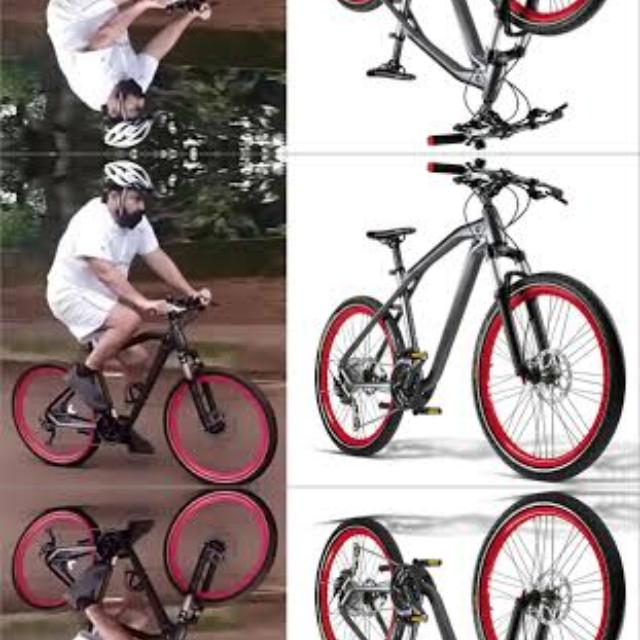obstacle: (301, 154, 634, 482), (300, 0, 633, 151), (16, 293, 284, 479), (300, 491, 633, 640), (15, 493, 284, 640), (15, 0, 284, 13)
